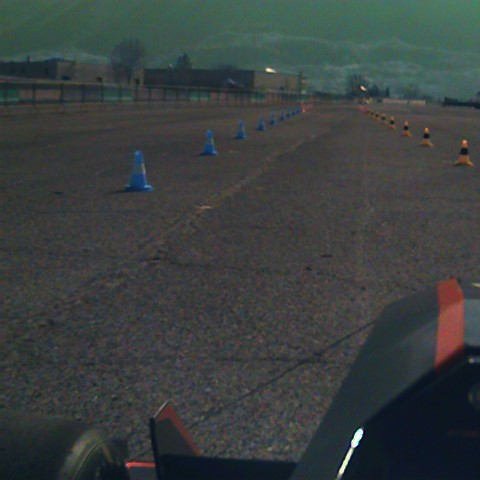cone: (123, 150, 152, 192), (202, 130, 218, 156), (236, 120, 248, 140), (256, 117, 264, 130), (269, 114, 275, 124), (280, 114, 285, 120)
